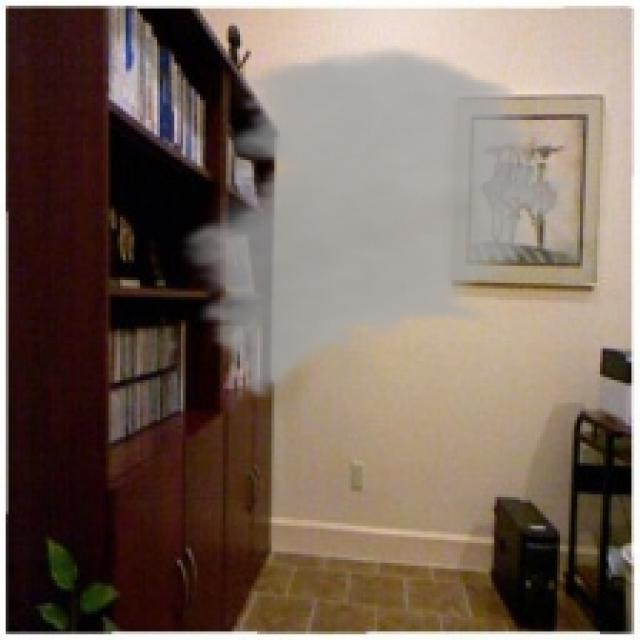smoke: (171, 43, 583, 400)
